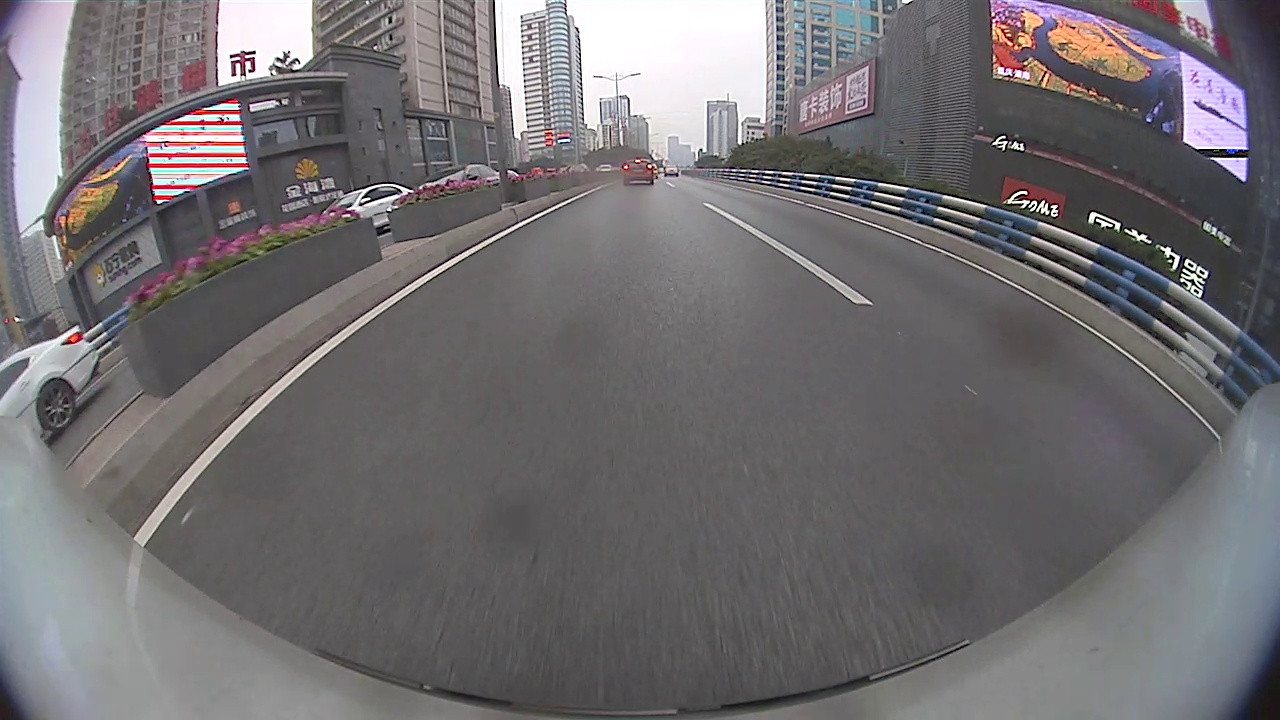car: (1, 318, 102, 447), (318, 179, 420, 234), (416, 160, 517, 196), (621, 155, 656, 187), (662, 163, 681, 177)
rear: (35, 378, 77, 434)
